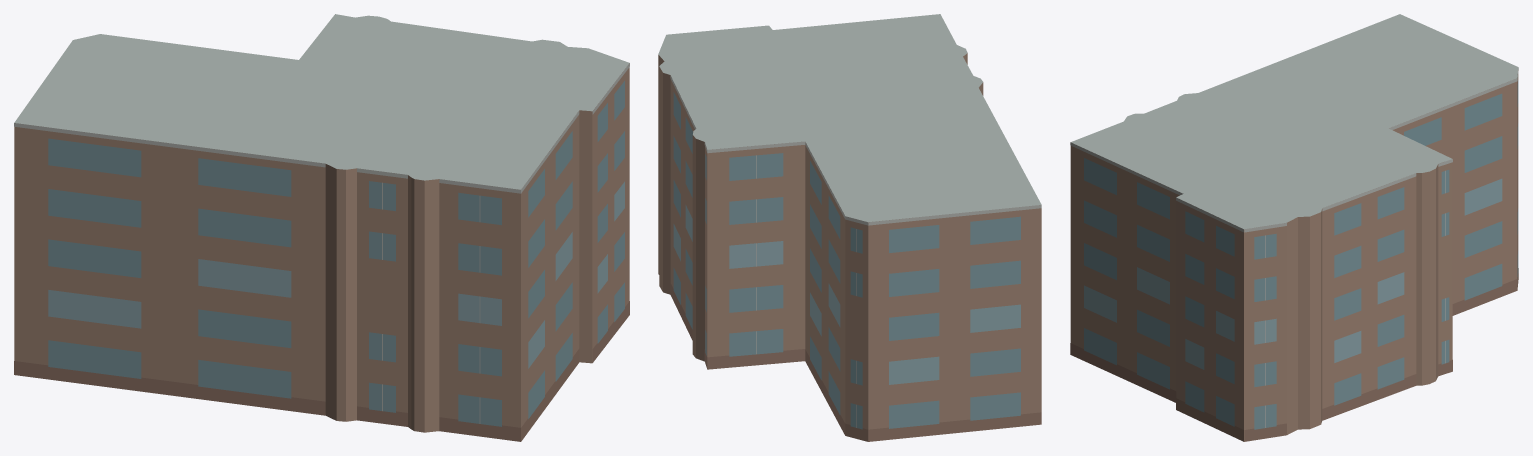
File: survey-upis-32757447.glb
The picture shows the model from 3 angles, left to right: view 1: azimuth 30°, elevation 25°; view 2: azimuth 150°, elevation 25°; view 3: azimuth 270°, elevation 25°; orthographic projection. The views are drawn at different scales.
Visible parts, largest first — view 1: survey-upis-32757447.tmp; view 2: survey-upis-32757447.tmp; view 3: survey-upis-32757447.tmp.
Boxes of the visible parts, x1,y1,x2,y2 form: survey-upis-32757447.tmp: (14,14,629,441); survey-upis-32757447.tmp: (658,14,1041,441); survey-upis-32757447.tmp: (1070,14,1518,441).
Bounding box in the file's own units: 34.77 × 16 × 30.56.
